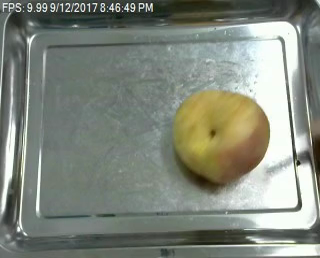Peach: (173, 90, 271, 183)
